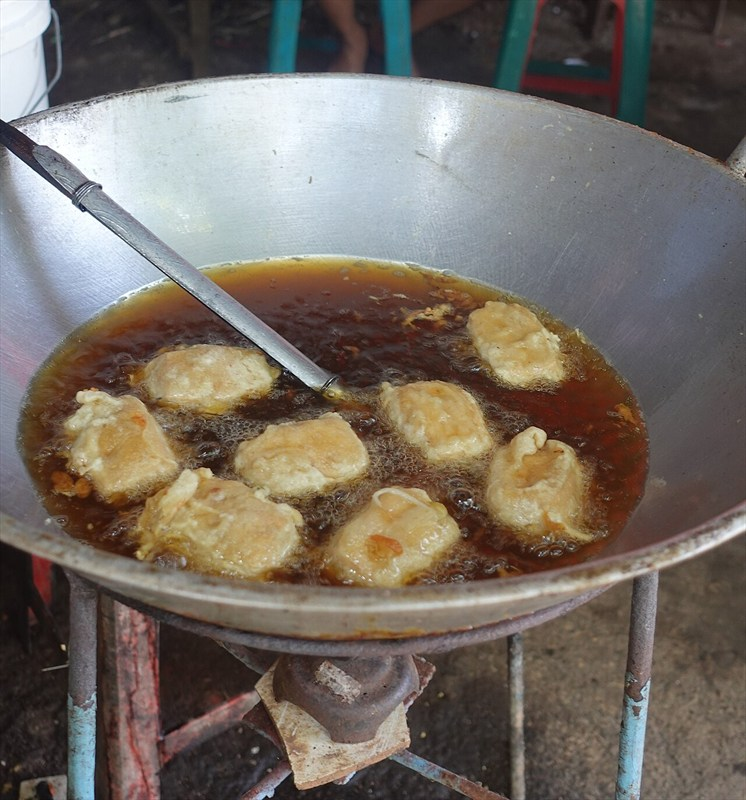Tahu Goreng: (16, 52, 586, 728)
